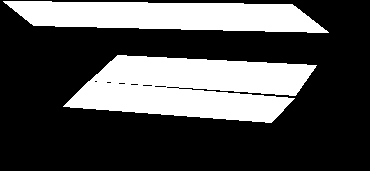parkingspot: (3, 0, 329, 32), (63, 80, 295, 122), (90, 54, 317, 95)
